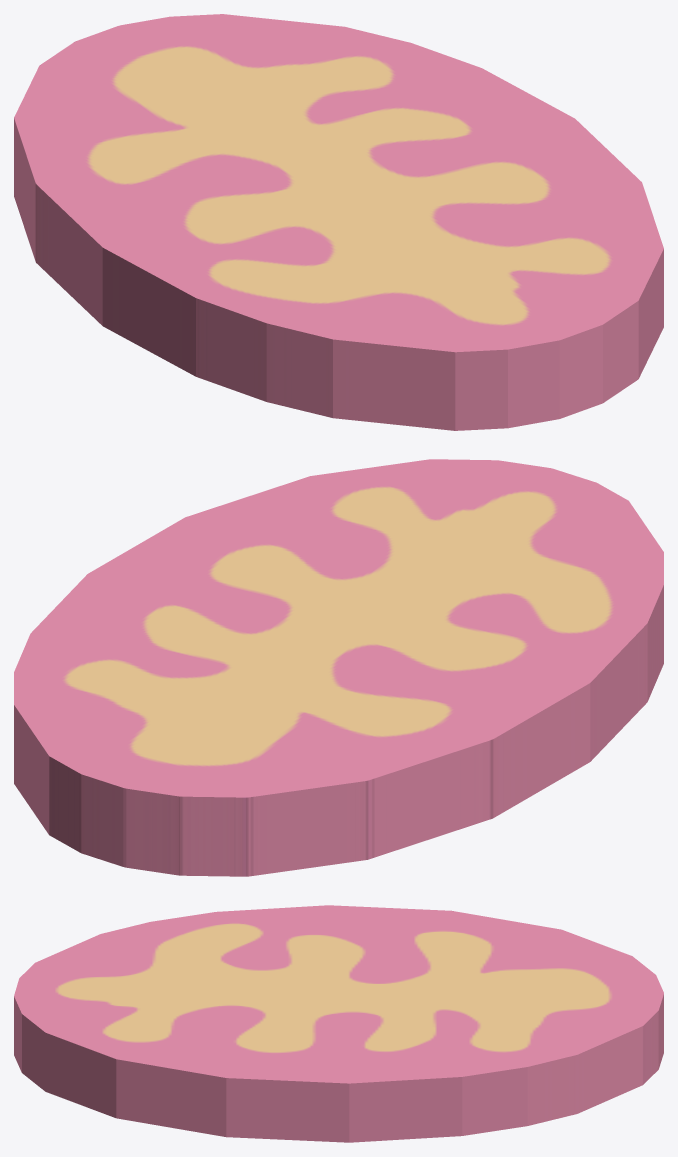
The model's file is mitochondrion.gltf.
3 renders of one model, top to bottom at view 1: azimuth 30°, elevation 25°; view 2: azimuth 150°, elevation 25°; view 3: azimuth 270°, elevation 25°, orthographic. The views are drawn at different scales.
Size of the model in its own units: 0.0409 by 0.00632 by 0.063.
Materials: 1 (1 with a texture image).
